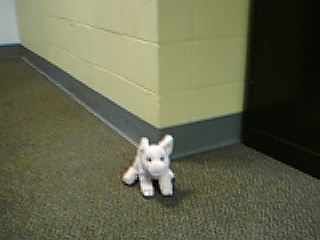piggy: (121, 133, 179, 199)
